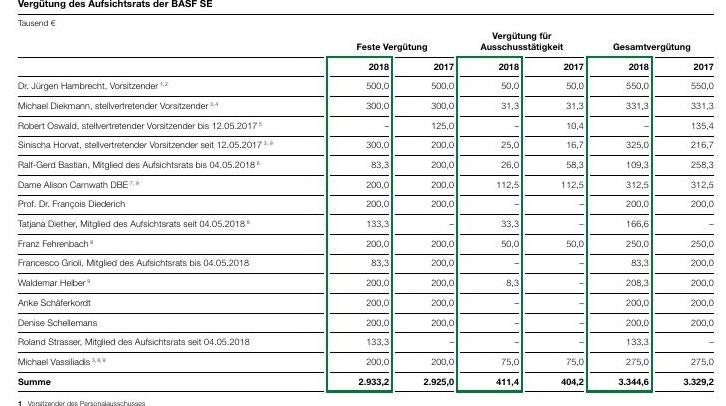table: (0, 0, 726, 406)
